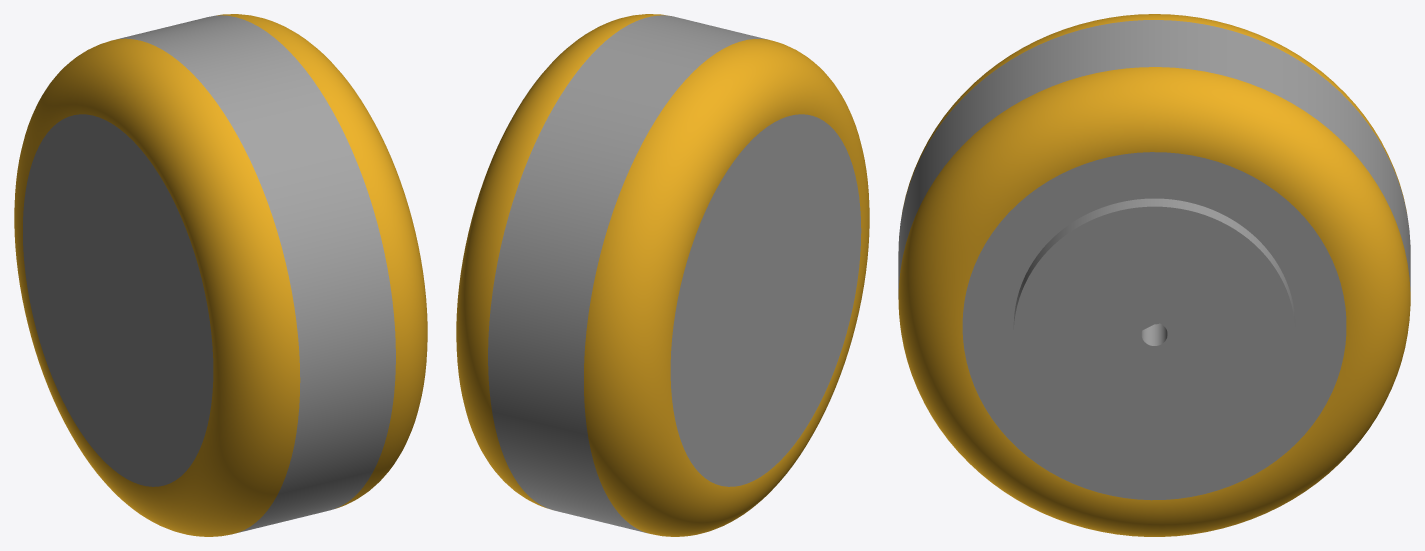
Rendered from front_left_wheel.dae.
3 views of the same model, side by side, from view 1: azimuth 30°, elevation 25°; view 2: azimuth 150°, elevation 25°; view 3: azimuth 270°, elevation 25° (orthographic).
Visible parts, largest first — view 1: front_left_wheel; view 2: front_left_wheel; view 3: front_left_wheel.
Boxes of the visible parts, left/top/right/bottom form: front_left_wheel: left=14, top=14, right=427, bottom=536; front_left_wheel: left=456, top=14, right=869, bottom=536; front_left_wheel: left=898, top=14, right=1410, bottom=536.
Size of the model in its own units: 0.0404 by 0.08 by 0.08.
